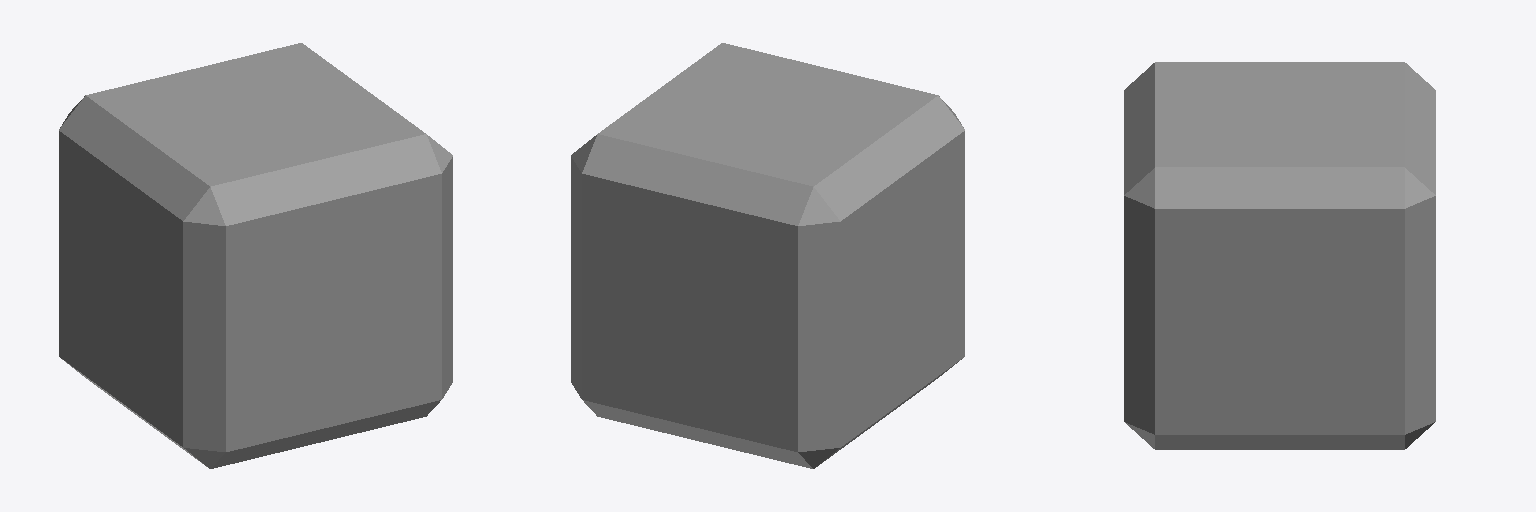
The model's file is bblock.obj.
3 views of the same model, side by side, from view 1: azimuth 30°, elevation 25°; view 2: azimuth 150°, elevation 25°; view 3: azimuth 270°, elevation 25° (orthographic).
Parts seen in each view (by area): view 1: bblock; view 2: bblock; view 3: bblock.
Part boxes in pixels (bbox=[...]): bblock: bbox=[59, 43, 452, 468]; bblock: bbox=[571, 43, 964, 468]; bblock: bbox=[1124, 62, 1435, 449].
Size of the model in its own units: 2 by 2 by 2.